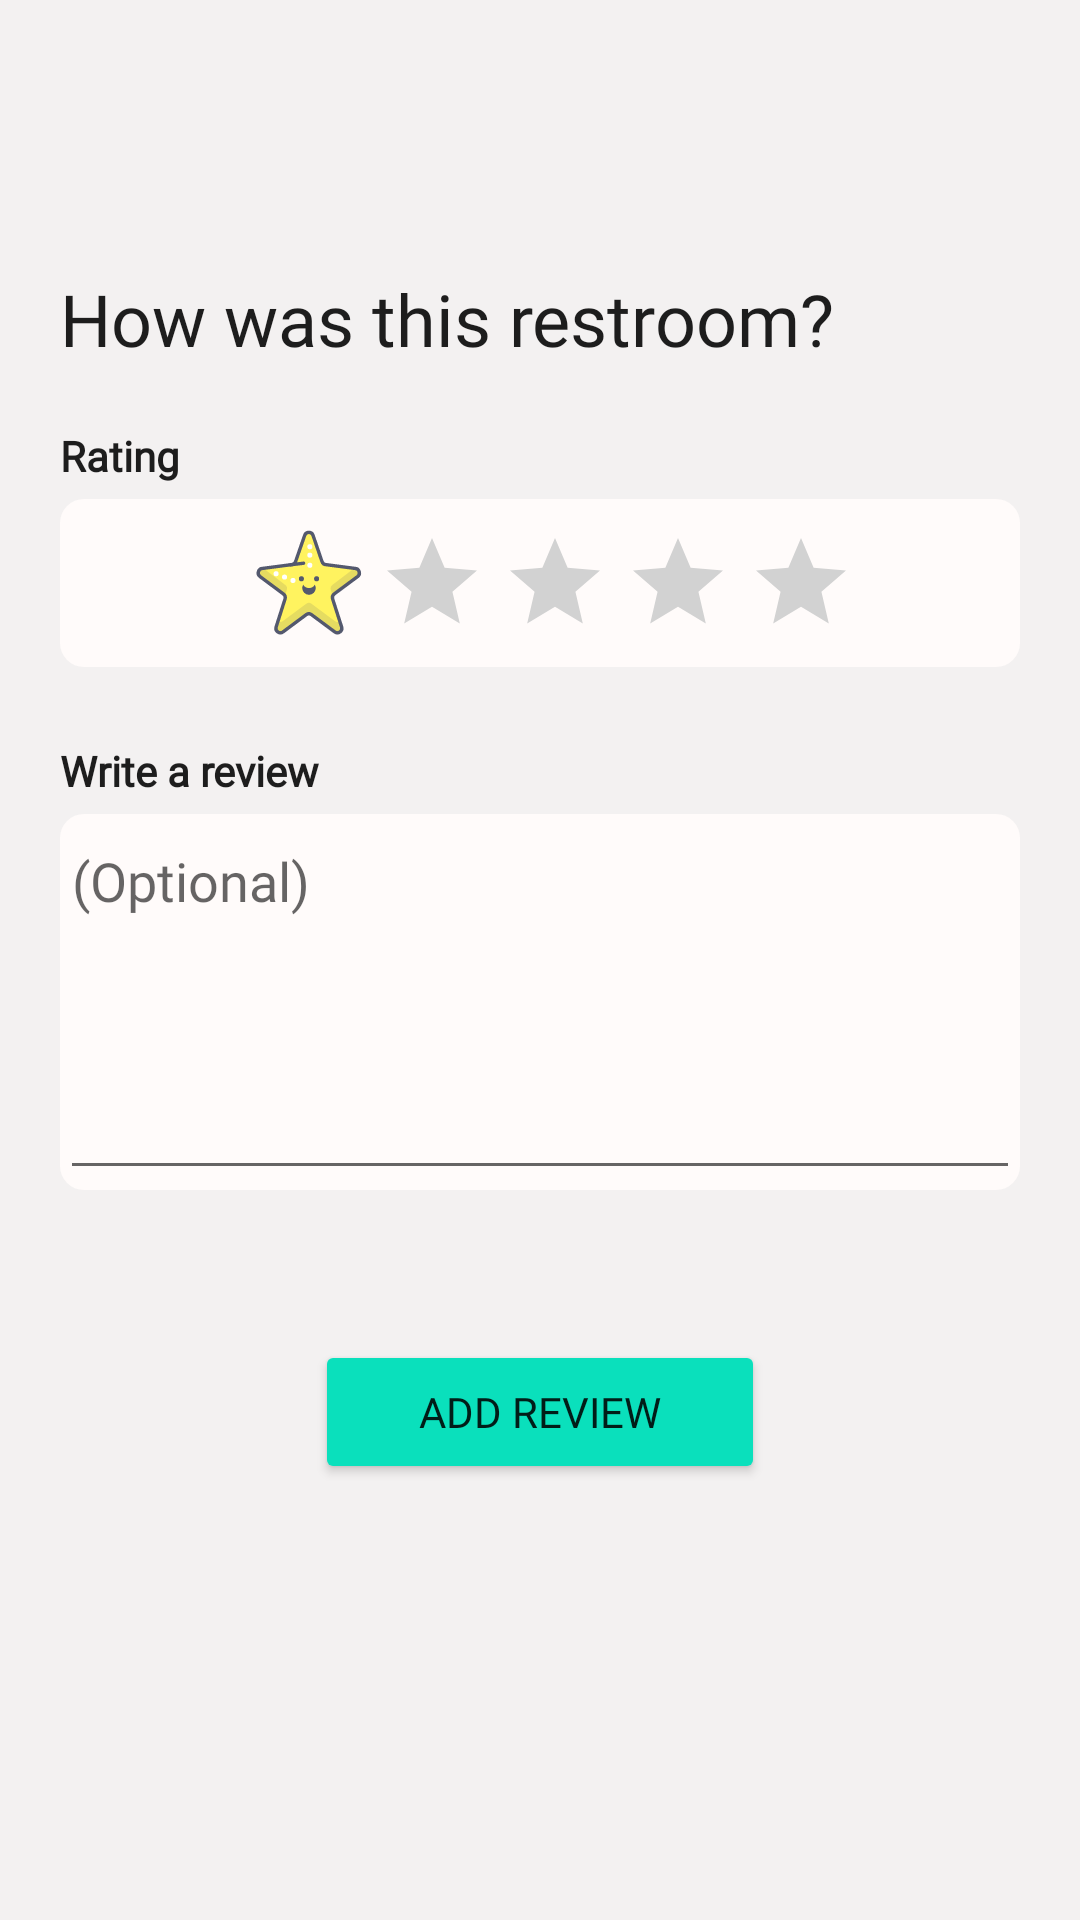

Screen size 1080x1920. Icon name, then its center in pixels as (x,y):
star: (308,582), (432,581), (555,581), (678,581), (801,581)
